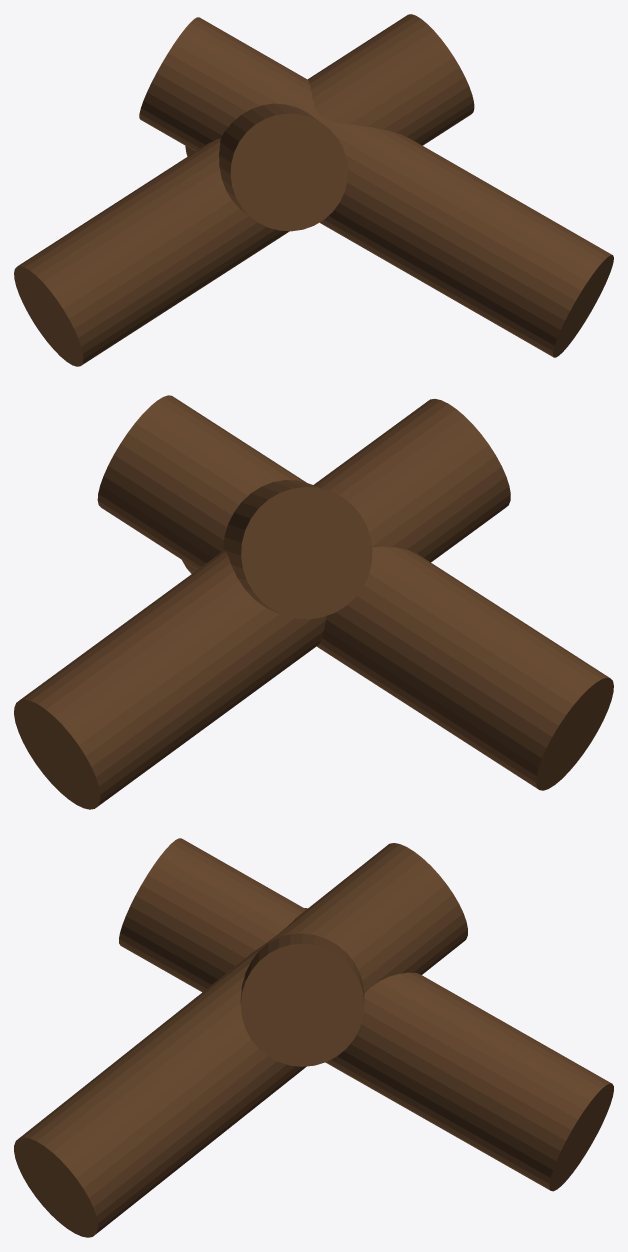
The model's file is Campfire.fbx.
3 renders of one model, top to bottom at view 1: azimuth 30°, elevation 25°; view 2: azimuth 150°, elevation 25°; view 3: azimuth 270°, elevation 25°, orthographic. The views are drawn at different scales.
Parts seen in each view (by area): view 1: Cylinder.002; view 2: Cylinder.002; view 3: Cylinder.002.
Boxes of the visible parts, bbox=[...] form: Cylinder.002: bbox=[14, 14, 613, 366]; Cylinder.002: bbox=[14, 395, 613, 809]; Cylinder.002: bbox=[14, 838, 613, 1237].
Size of the model in its own units: 234 by 124 by 243.
